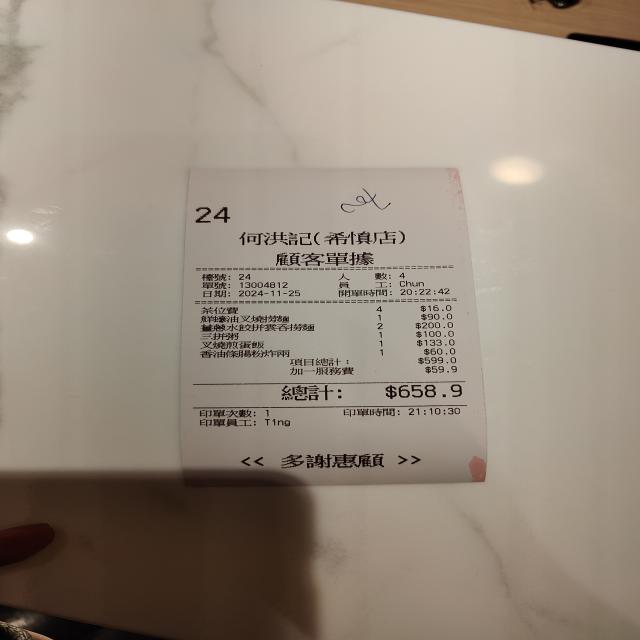bill_region: (187, 304, 473, 404)
